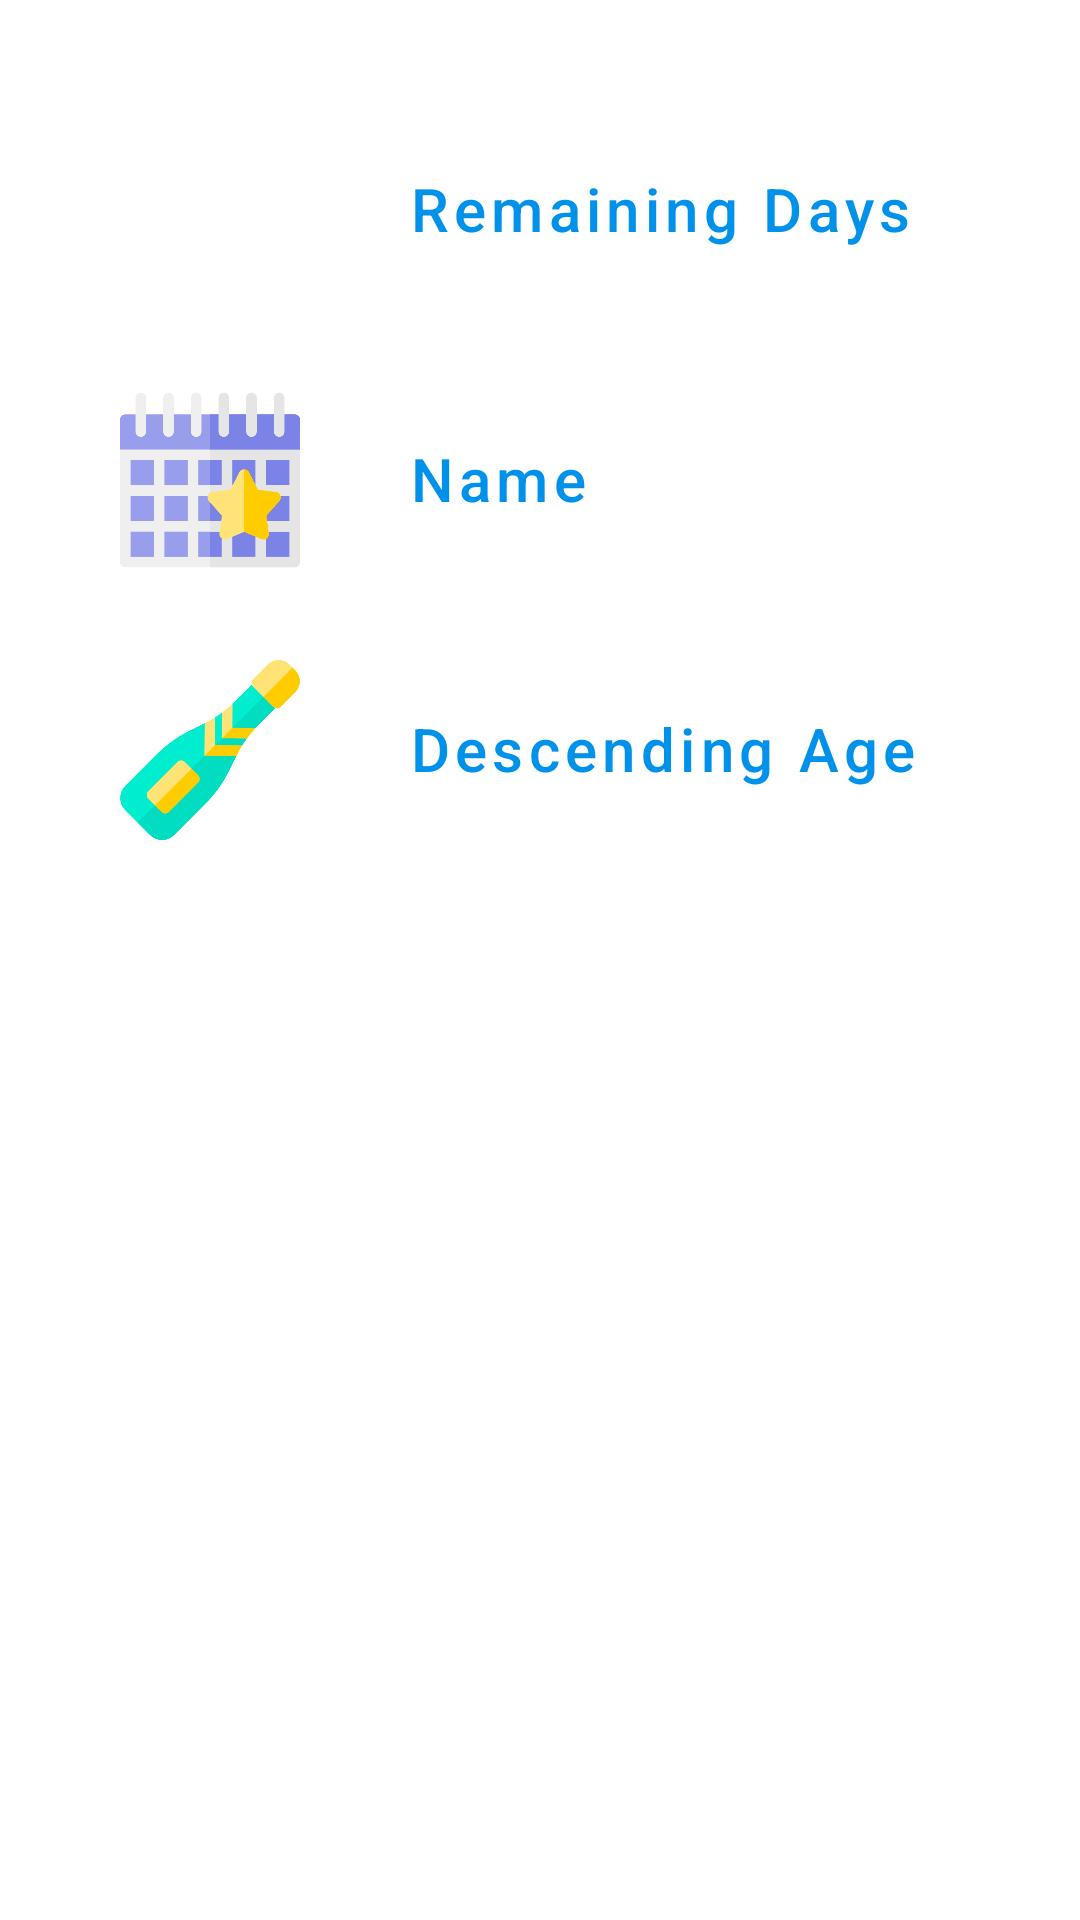

Named icons in this screenshot (1080×1920) and their centers, point (x, y):
im calendar event: point (210, 480)
im champagne: point (210, 750)
